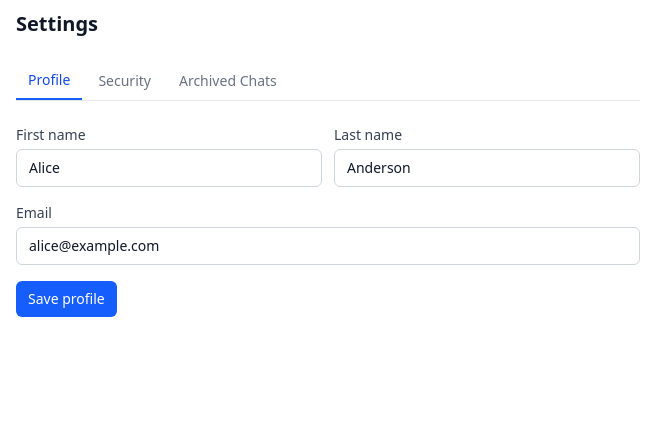
Test: SettingsPage - Security tab › changes the password on the happy path
Step 1. Click the button "Security" → [125, 81], box 86,62 -> 163,100
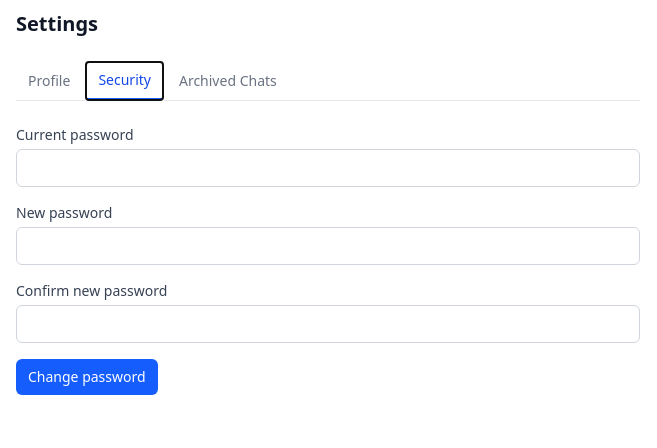
Step 2. Type "oldpassword123" into the password field labelled "Current password" → [328, 168], box 16,149 -> 640,187
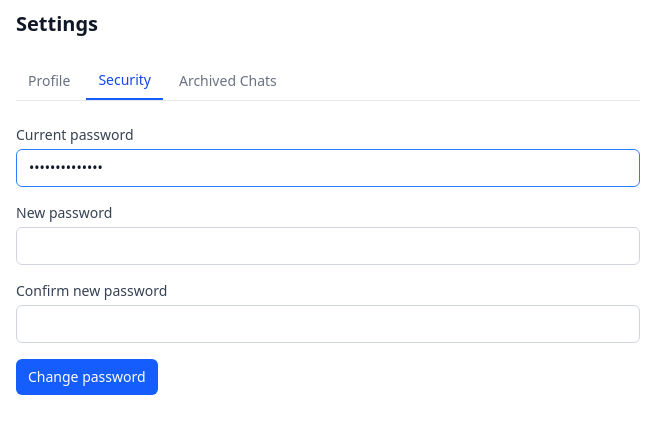
Step 3. Type "newpassword123" into the password field labelled "New password" → [328, 246], box 16,227 -> 640,265
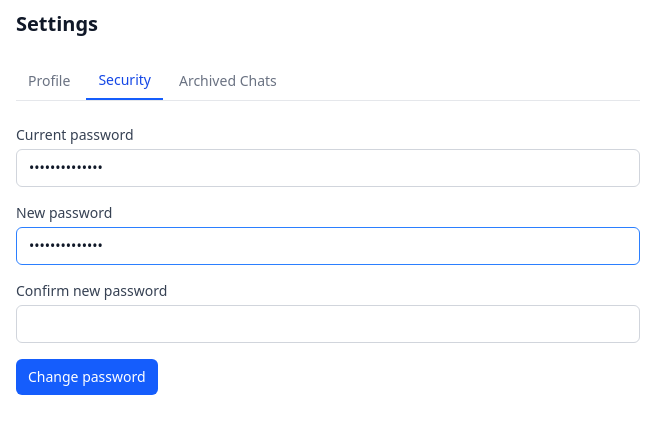
Step 4. Type "newpassword123" into the password field labelled "Confirm new password" → [328, 324], box 16,305 -> 640,343
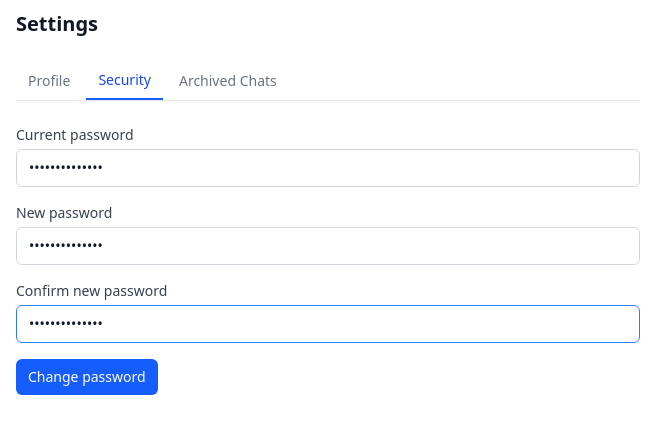
Step 5. Click the button "Change password" → [87, 377], box 16,359 -> 158,395
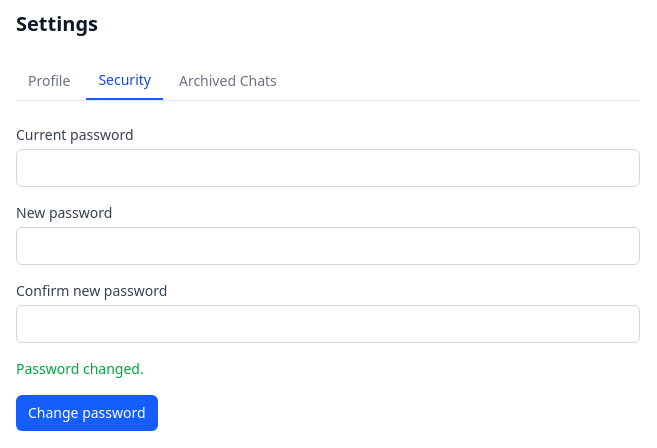
Expected: the text "Password changed." is shown, 16,359 -> 144,378
